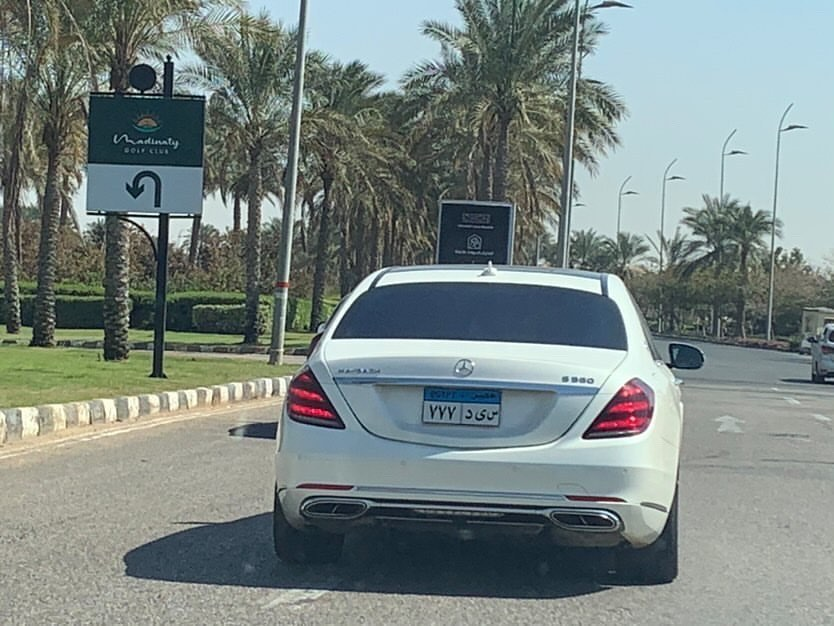carpl: (422, 394, 503, 425)
